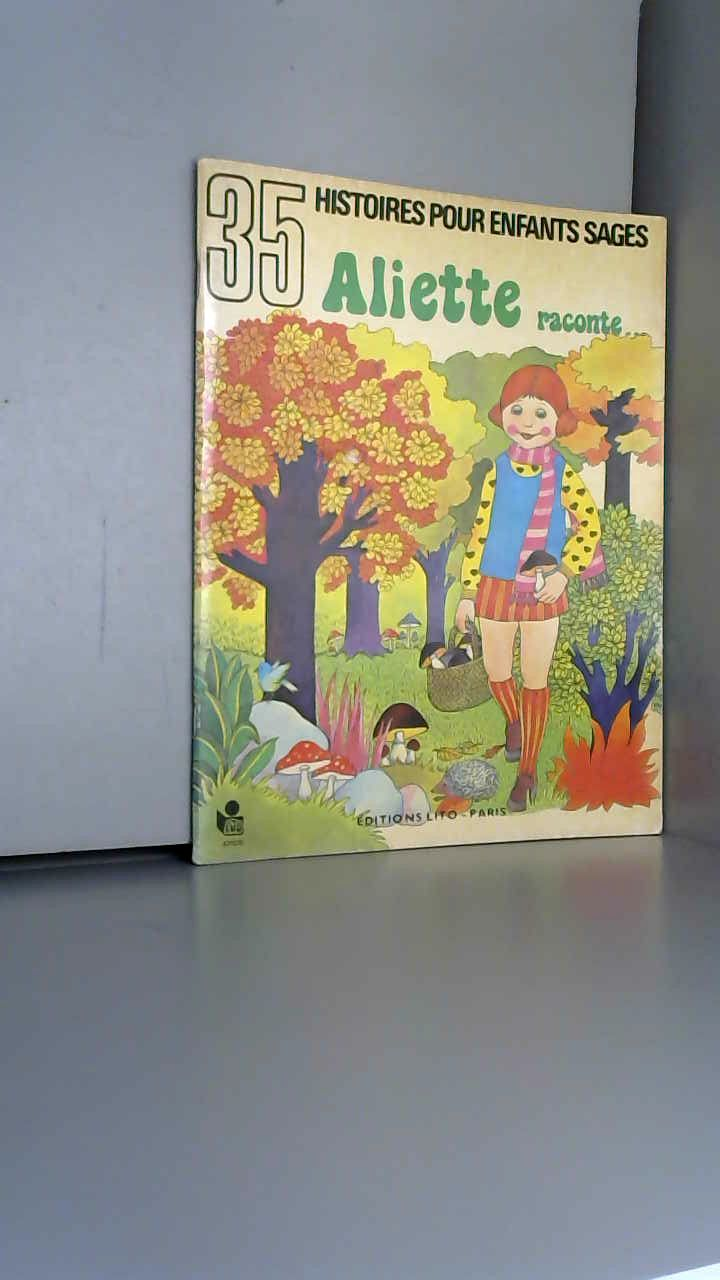book: (160, 130, 720, 909)
